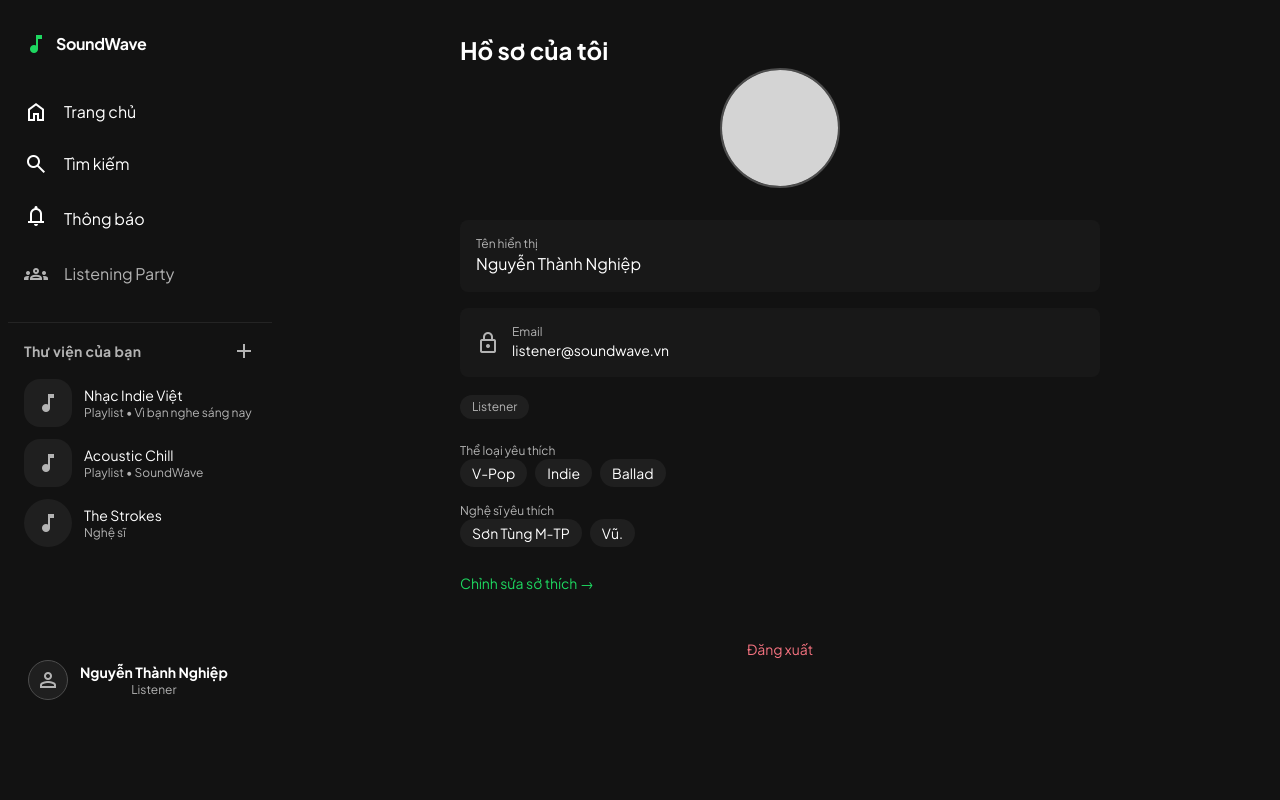
Test: ProfilePage › clicking name display enters edit mode
The image size is (1280, 800).
Click the text with test id "name-display" at coordinates (559, 264), box [476,253,641,274]
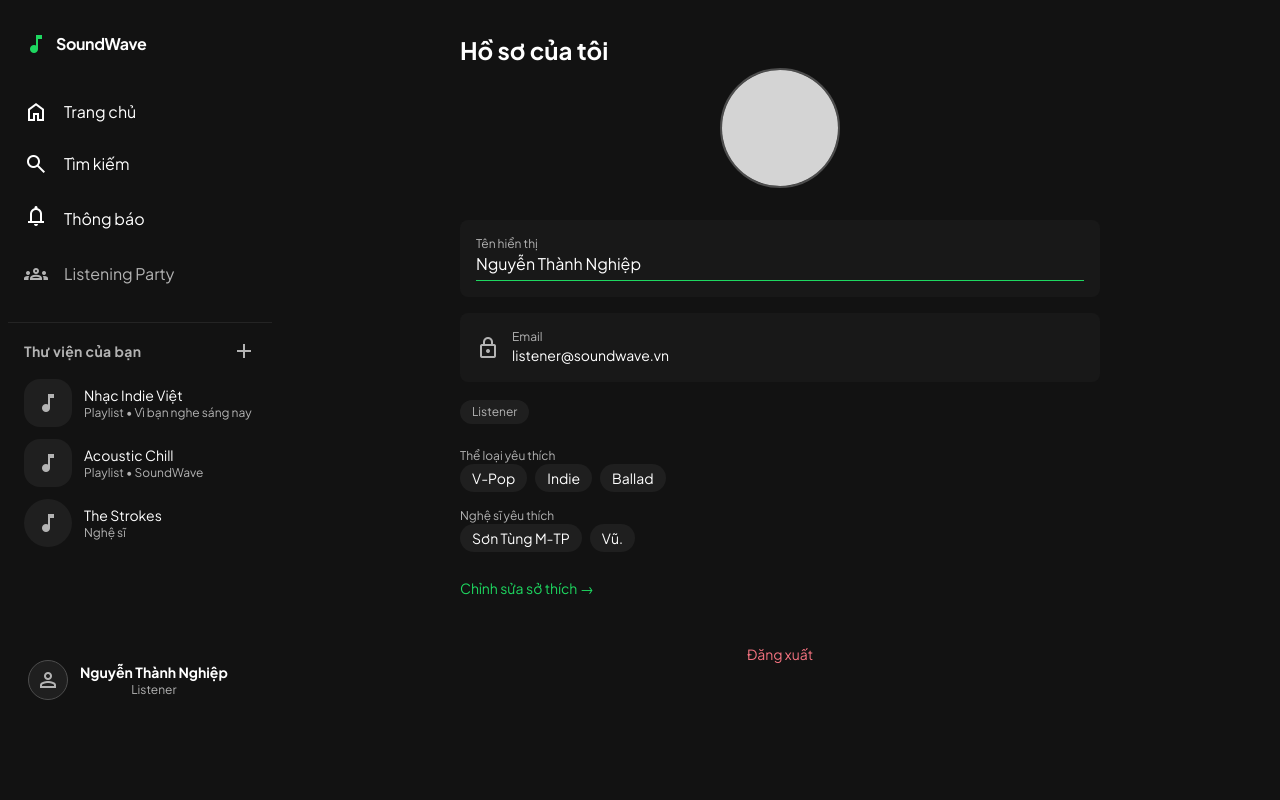
Check: the field with test id "name-input" is shown, box [476,252,1084,281]
